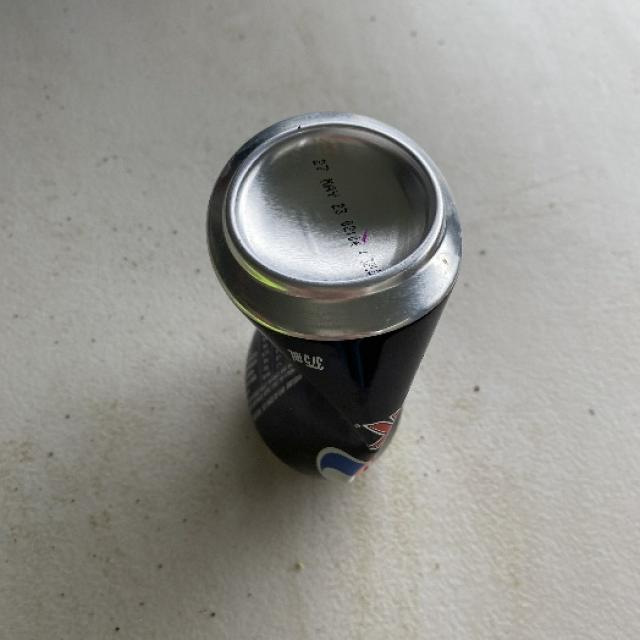metal: (204, 110, 463, 485)
